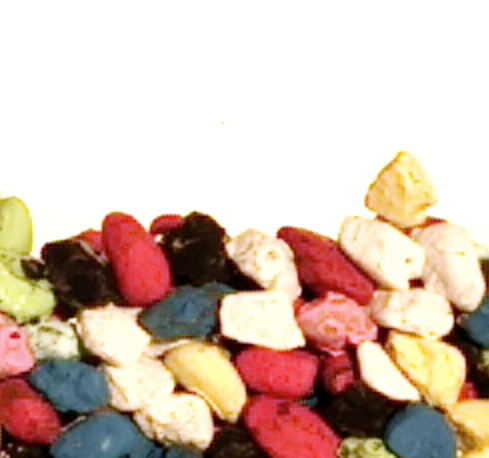black: (155, 212, 262, 293), (18, 240, 116, 314), (306, 387, 397, 439)
green: (2, 262, 57, 317), (22, 321, 82, 359), (1, 194, 36, 259)
red: (276, 224, 376, 301), (240, 392, 339, 458), (102, 211, 171, 304), (295, 294, 381, 350), (235, 345, 319, 398), (1, 377, 63, 444), (1, 314, 34, 375), (319, 349, 356, 393)
white: (408, 221, 484, 314), (339, 216, 427, 291), (222, 223, 306, 295), (218, 287, 307, 349), (129, 390, 215, 451), (352, 339, 423, 404), (104, 356, 179, 413), (75, 310, 152, 364), (373, 289, 455, 339)
yellow: (161, 340, 246, 424), (387, 329, 465, 410), (367, 149, 435, 229)
